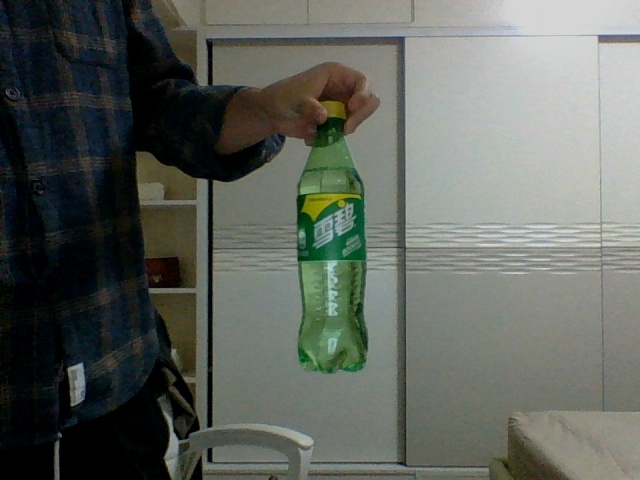Sprite: (295, 100, 370, 373)
